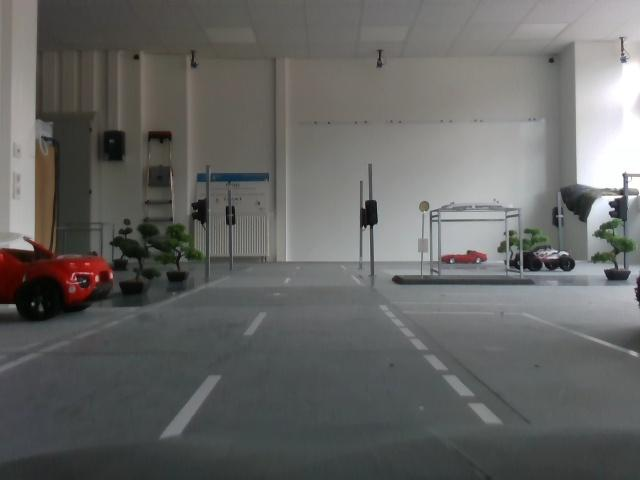car: (2, 233, 115, 318), (513, 246, 581, 276), (448, 247, 485, 268)
potted plant: (594, 221, 640, 281), (161, 225, 197, 286), (121, 233, 151, 296)
traffic light: (361, 197, 387, 234), (191, 192, 216, 227)
